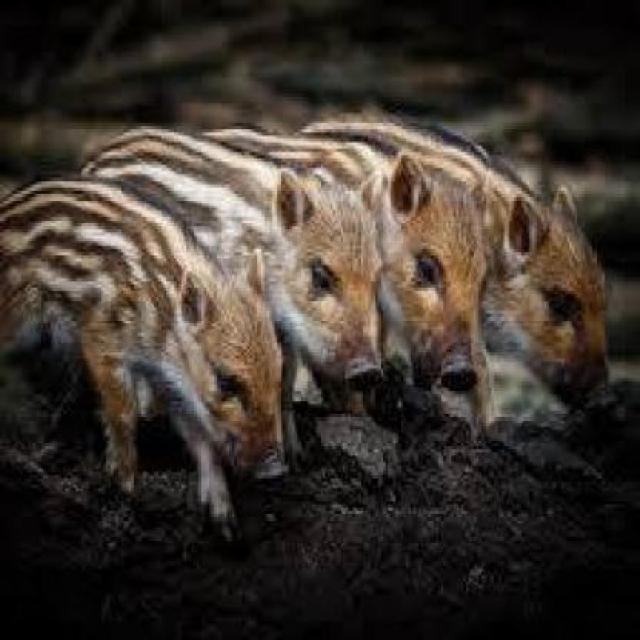wildboar: (282, 112, 622, 425), (77, 121, 380, 462), (190, 120, 495, 454), (0, 174, 289, 517)
